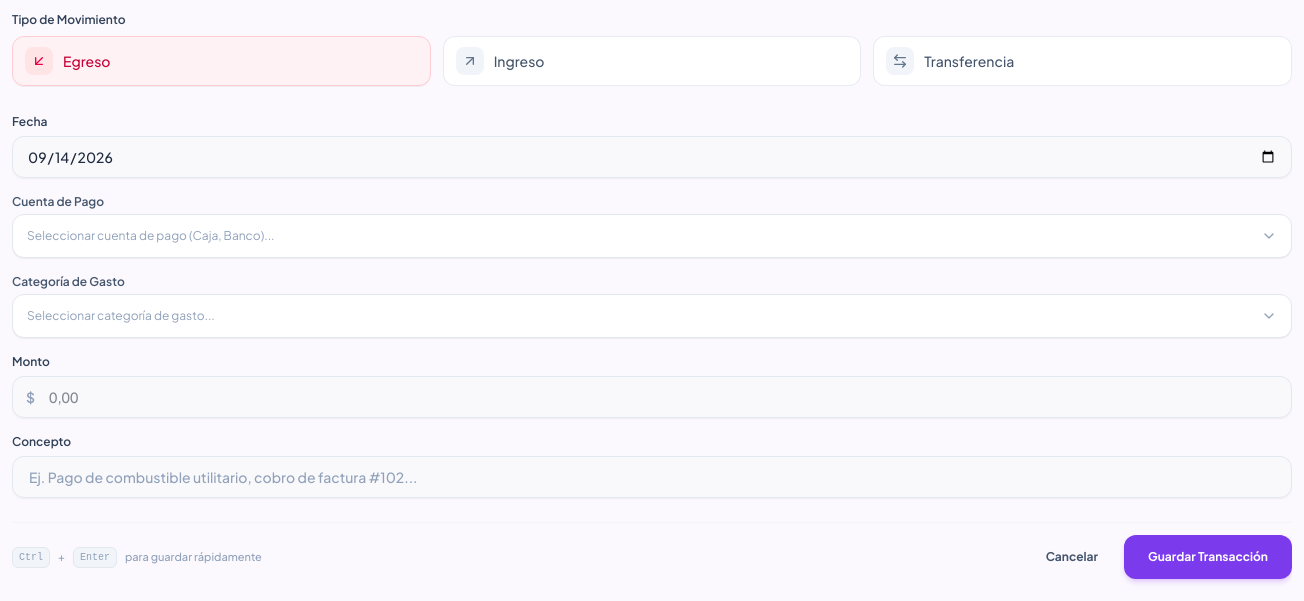
QuickTransactionForm Component (T007) › Operation Template Selector › switches template to Ingreso and updates account field labels contextually
Click the button "Ingreso".
click(519, 61)  # box [443,36,861,86]
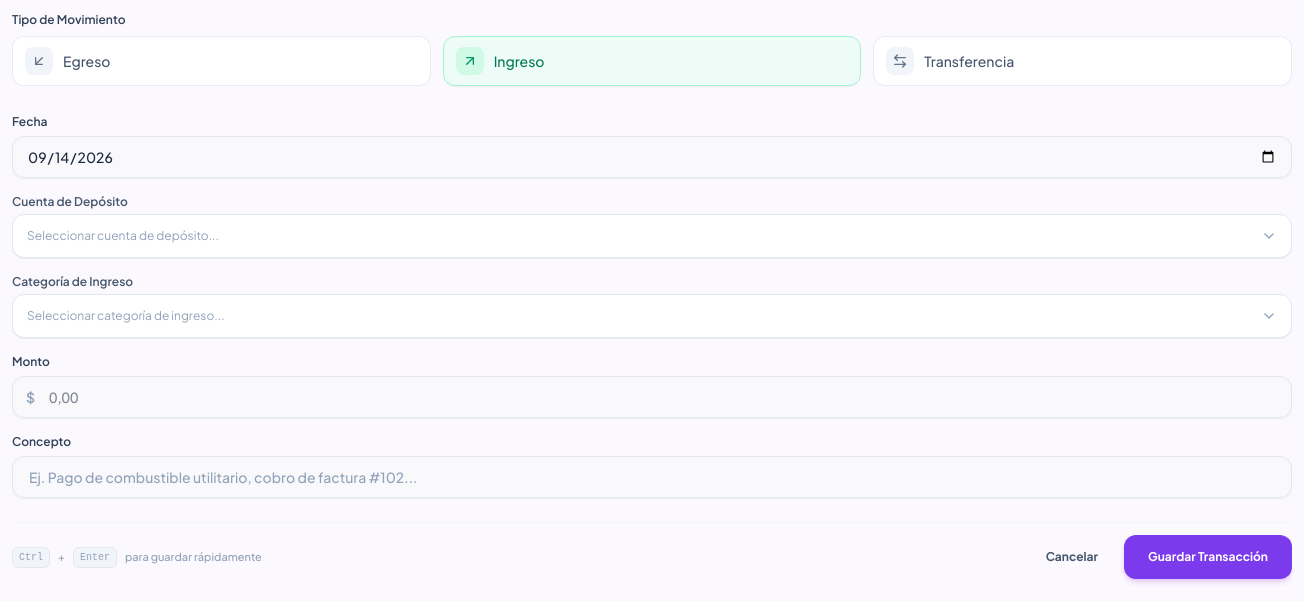
Result: the text "Cuenta de Depósito" is shown at [12,194,128,209]
Result: the text "Categoría de Ingreso" is shown at [12,274,133,289]
